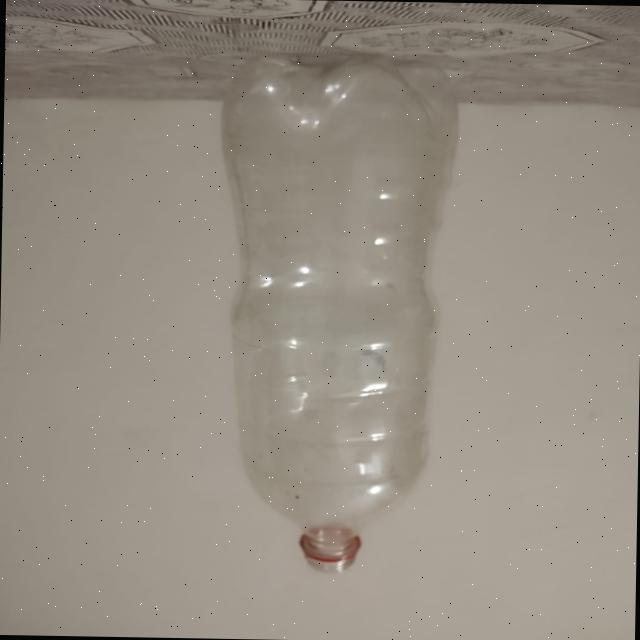bottle: (220, 52, 464, 576)
